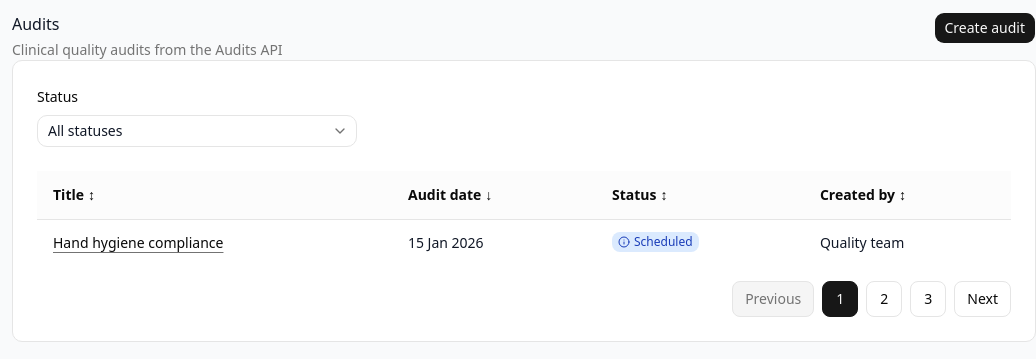
Test: AuditsView › keeps table region mounted and shows refetch overlay when a pagination button is clicked
expect the element named "Audits list, scrollable" is shown: met, box x1=37 y1=171 x2=1011 y2=265
Click the button "Next" at point(983, 299), box x1=954 y1=281 x2=1011 y2=317
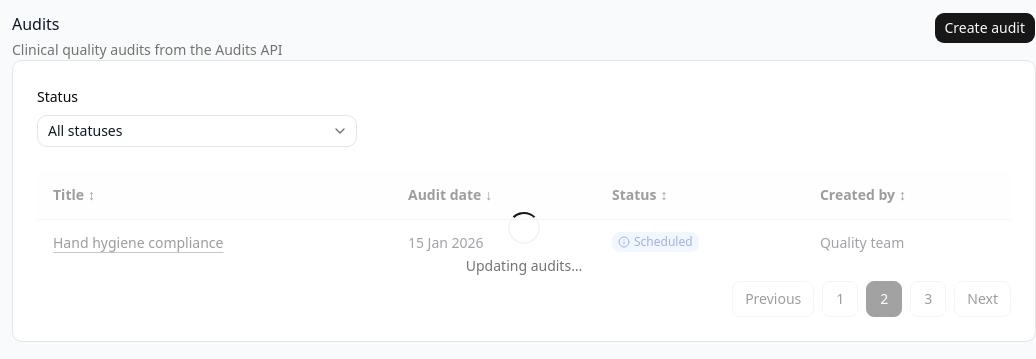
expect the element named "Audits list, scrollable" is shown: met, box x1=37 y1=171 x2=1011 y2=265
expect the message reads "Updating audits…": met, box x1=466 y1=256 x2=582 y2=275
